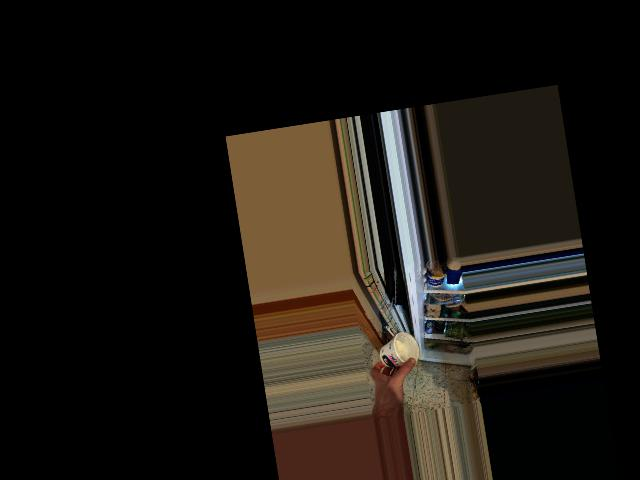cotage: (376, 332, 418, 371)
